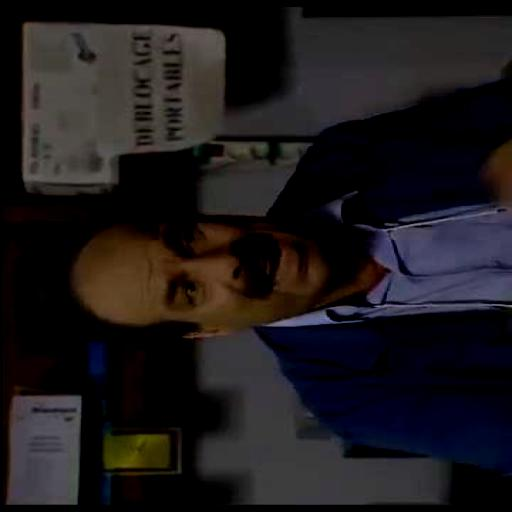beji_matrix: (67, 209, 328, 333)
